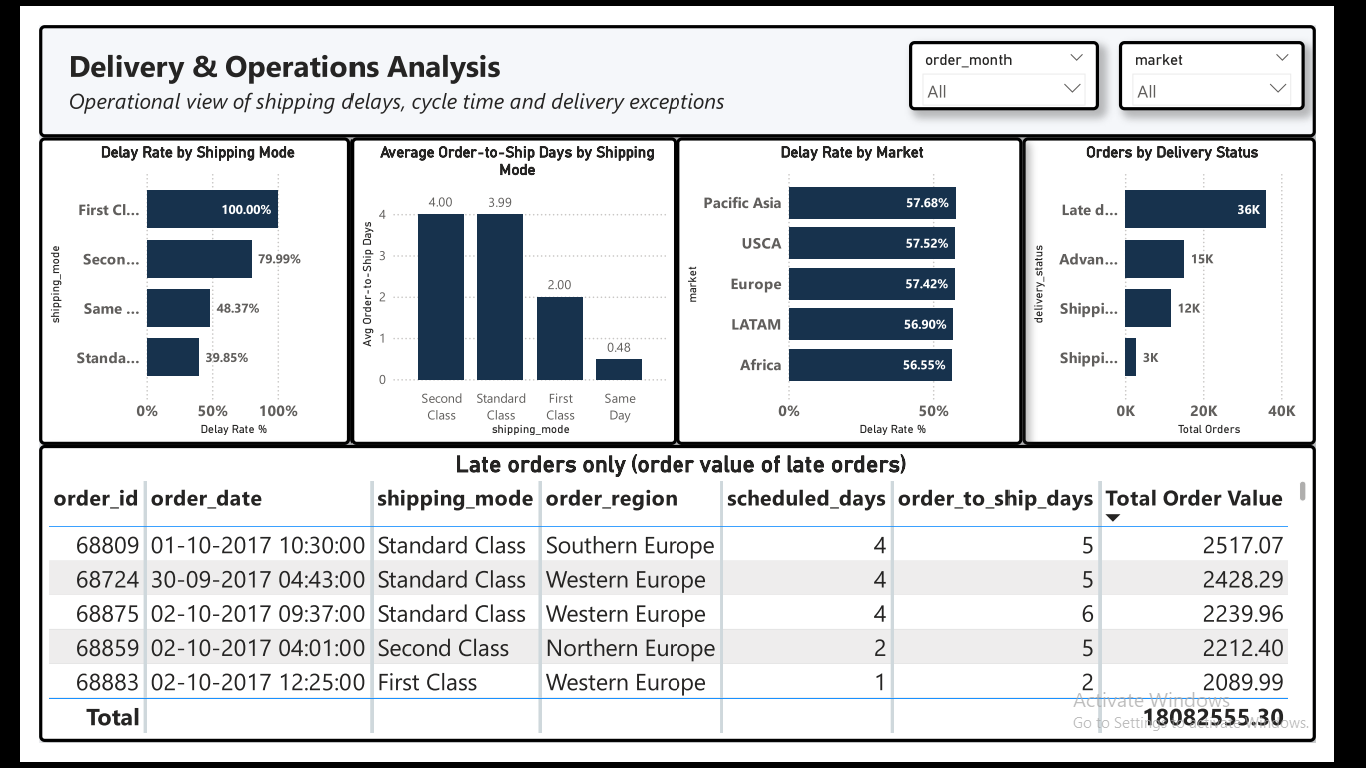

The dashboard page shown, as its layout file describes it:
{"tool":"powerbi","page":{"name":"Delivery & Operations Analysis","canvas":[1600,900],"ordinal":1},"visuals":[{"type":"shape","box":[0,0,1600,141.2],"z":0},{"type":"clusteredBarChart","title":"Delay Rate by Shipping Mode","fields":{"Category":["fact_orders.shipping_mode"],"Y":["fact_orders.Delay Rate %"]},"box":[0,141.2,389.7,384.4],"z":1000},{"type":"clusteredBarChart","title":"Orders by Delivery Status","fields":{"Category":["fact_orders.delivery_status"],"Y":["fact_orders.Total Orders"]},"box":[1231.7,141.2,368.3,384.4],"z":2000},{"type":"clusteredColumnChart","title":"Average Order-to-Ship Days by Shipping Mode","fields":{"Category":["fact_orders.shipping_mode"],"Y":["fact_orders.Avg Order-to-Ship Days"]},"box":[389.7,141.2,409.4,384.4],"z":3000},{"type":"clusteredBarChart","title":"Delay Rate by Market","fields":{"Category":["fact_orders.market"],"Y":["fact_orders.Delay Rate %"]},"box":[799.1,141.2,432.6,384.4],"z":4000},{"type":"tableEx","title":"Late orders only (order value of late orders)","fields":{"Values":["fact_orders.order_id","fact_orders.order_date","fact_orders.shipping_mode","fact_orders.order_region","fact_orders.scheduled_days","fact_orders.order_to_ship_days","fact_orders.Total Order Value"]},"box":[0,525.6,1600,373.6],"z":5000},{"type":"slicer","fields":{"Values":["fact_orders.market"]},"box":[1353.3,19.7,232.4,87.6],"z":6000},{"type":"slicer","fields":{"Values":["fact_orders.order_month"]},"box":[1090.5,19.7,237.8,87.6],"z":7000},{"type":"textbox","box":[32.2,19.7,983.2,103.7],"z":8000}]}

Visuals, with their boxes in screenshot pixels (x1, y1, x2, y2), scaled from the page's 1600x900 canvas onto the 1366x768 screenshot:
shape: [0, 0, 1365, 120]
"Delay Rate by Shipping Mode" clusteredBarChart: [0, 120, 333, 449]
"Orders by Delivery Status" clusteredBarChart: [1052, 120, 1365, 449]
"Average Order-to-Ship Days by Shipping Mode" clusteredColumnChart: [333, 120, 682, 449]
"Delay Rate by Market" clusteredBarChart: [682, 120, 1052, 449]
"Late orders only (order value of late orders)" tableEx: [0, 449, 1365, 767]
slicer - fact_orders.market: [1155, 17, 1354, 92]
slicer - fact_orders.order_month: [931, 17, 1134, 92]
textbox: [27, 17, 867, 105]
